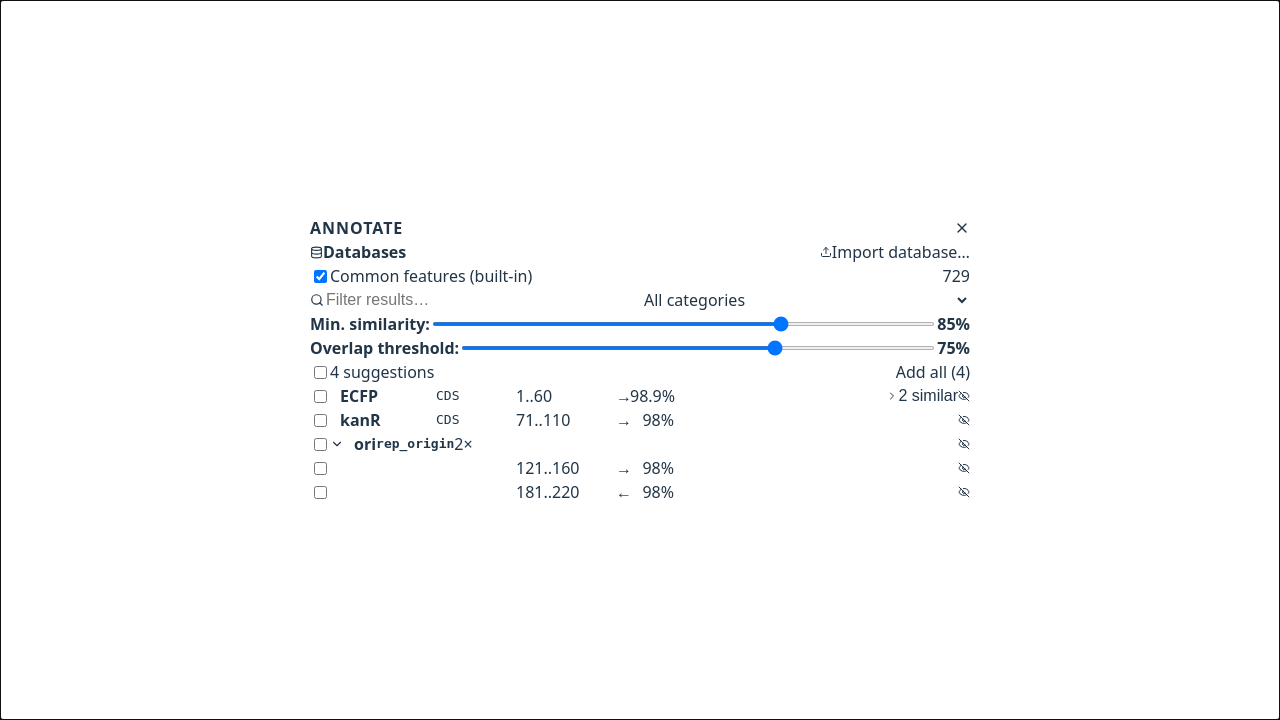
Test: AnnotateDialog suggestions › counts loci, not matches: three proteins on one gene are one suggestion
This screenshot has width=1280, height=720.
Expected: the text "4 suggestions" is shown, [330,360,434,384]
Expected: the text "ECFP" is shown, [340,385,378,407]
Click the button "2 similar" at (922, 396), box [886,387,958,405]
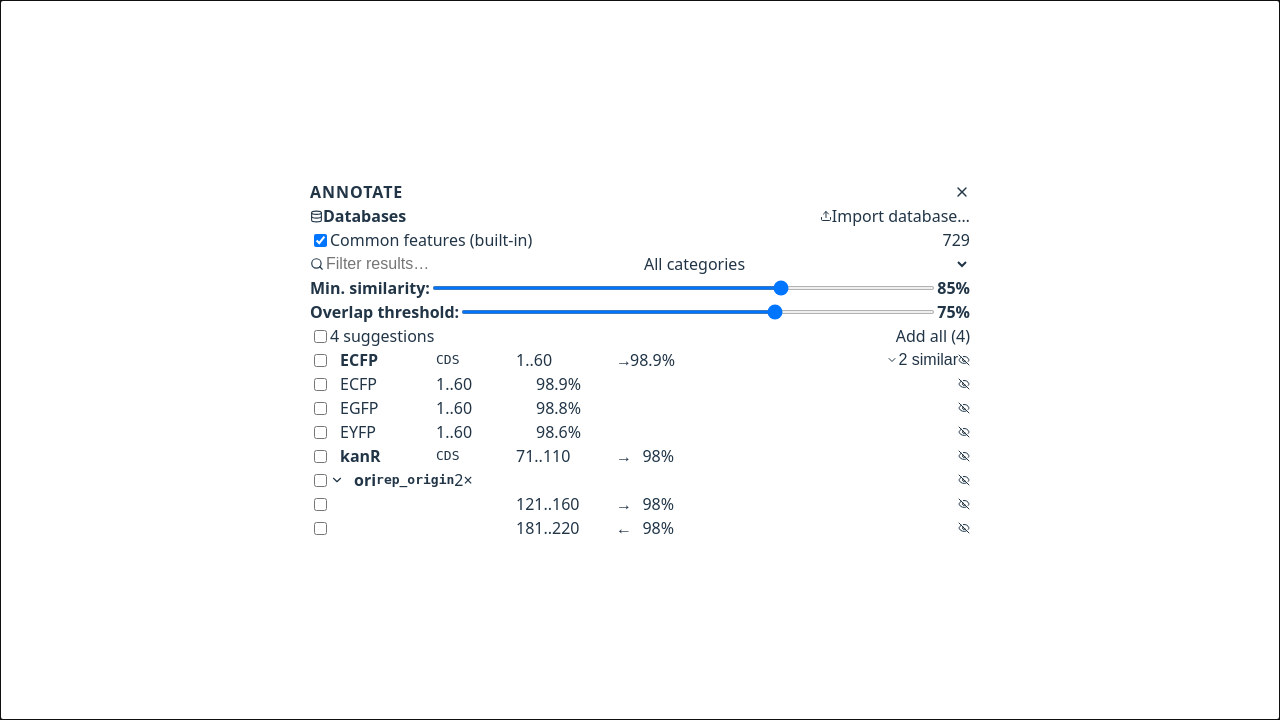
Expected: the text "EGFP" is shown, [340,397,378,419]
Expected: the text "EYFP" is shown, [340,421,376,443]
